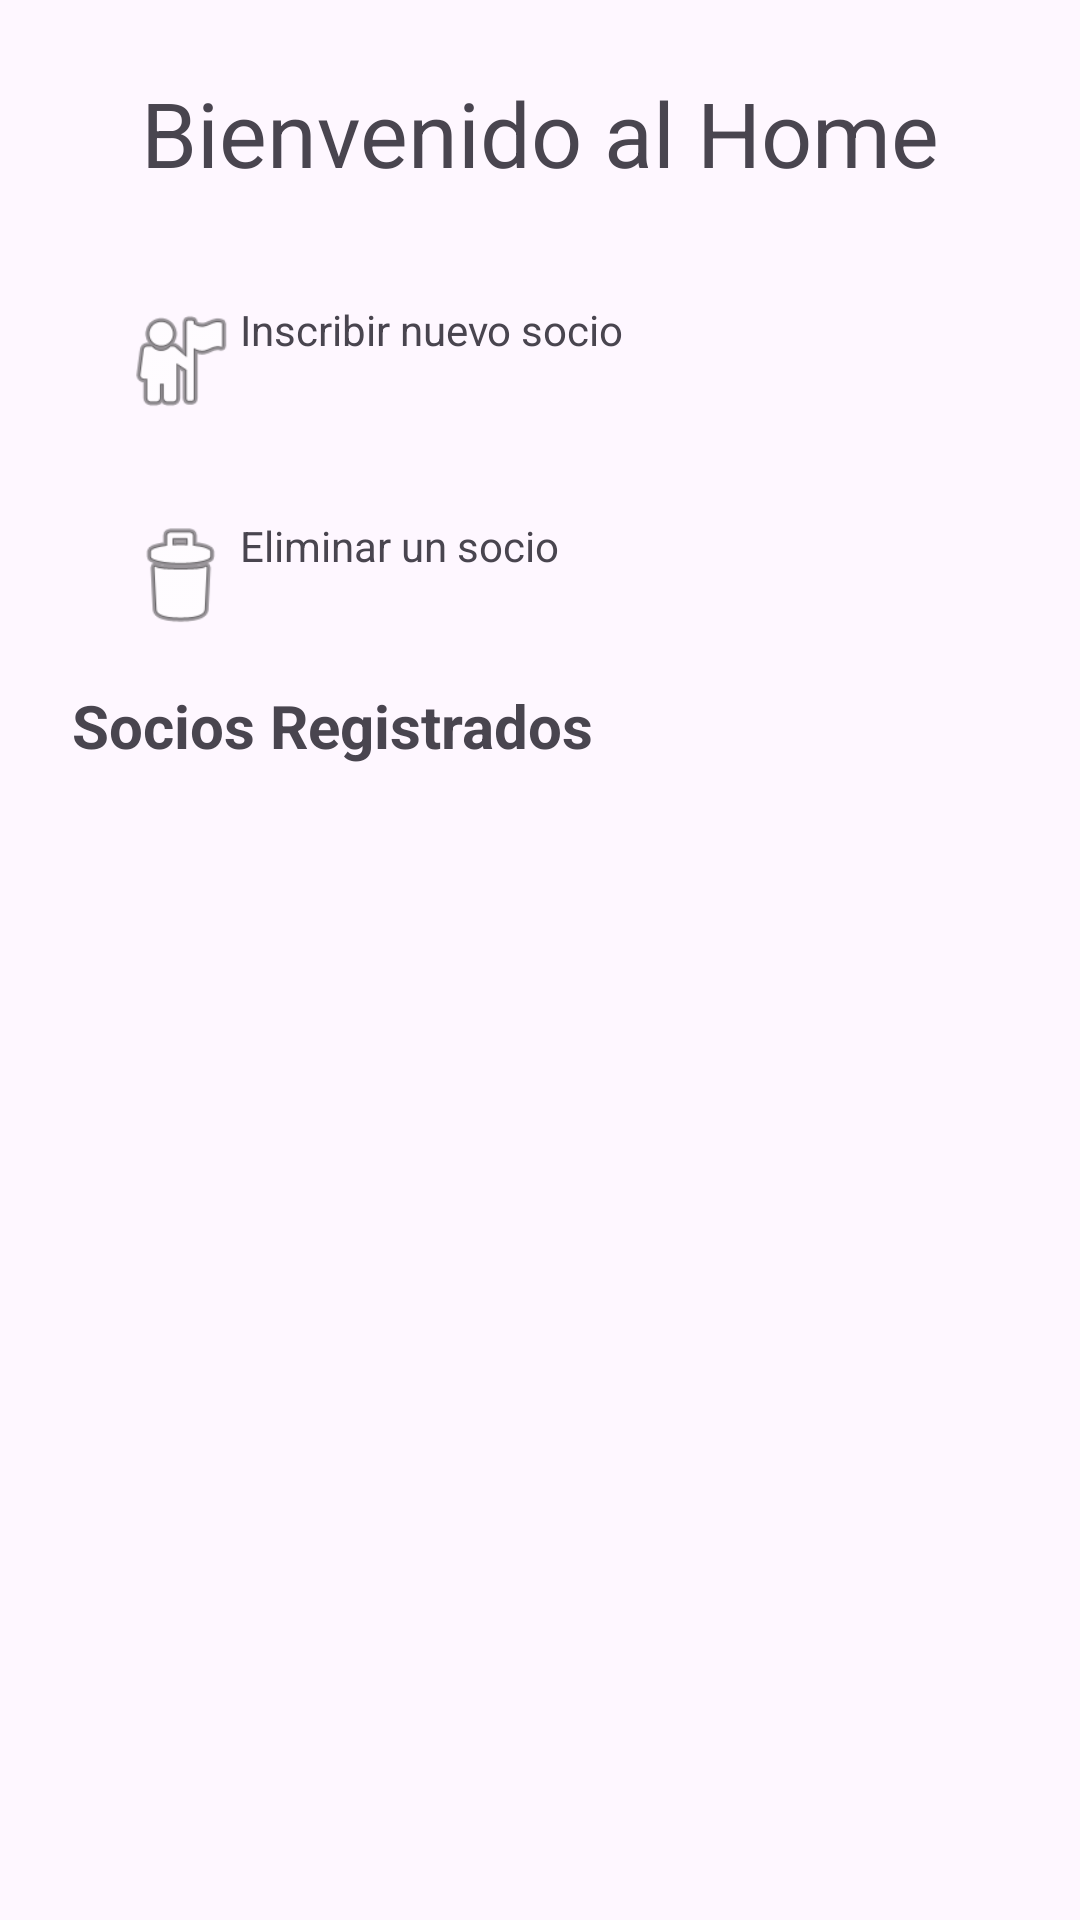

Icons on this 1080×1920 Android screen, each with the point to tap as (x,y):
delete: (181,575)
